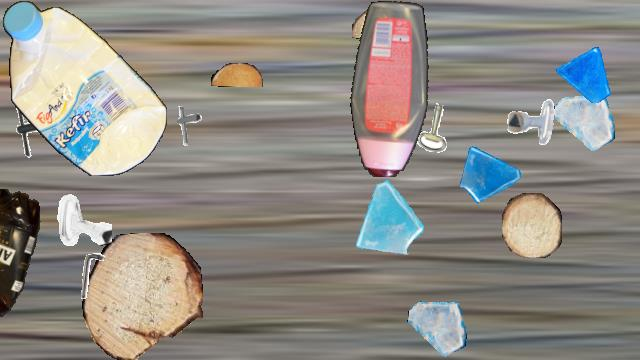glass: (345, 179, 425, 259), (457, 140, 523, 206), (554, 93, 614, 153), (407, 299, 467, 359), (556, 46, 612, 102)
metal: (5, 99, 65, 159), (54, 191, 112, 249), (409, 100, 465, 156), (67, 249, 121, 303), (506, 97, 558, 149), (165, 103, 209, 147)
plastic: (3, 1, 167, 175), (349, 1, 433, 177), (0, 189, 47, 359)
wood: (82, 233, 202, 359), (502, 193, 562, 257), (352, 9, 426, 41), (211, 63, 263, 87)
